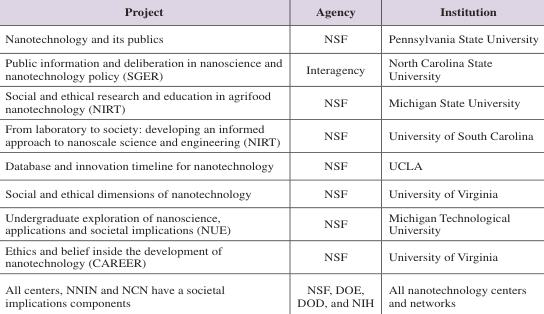table: (4, 3, 538, 308)
table column: (4, 3, 288, 308), (380, 3, 538, 308), (288, 3, 380, 308)
table column header: (4, 3, 538, 24)
table row: (4, 239, 538, 275), (4, 50, 538, 85), (4, 118, 538, 153), (4, 204, 538, 239), (4, 85, 538, 118), (4, 275, 538, 308), (4, 24, 538, 50), (4, 153, 538, 179), (4, 179, 538, 204), (4, 3, 538, 24)
